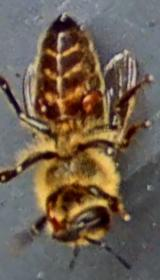varroa_mite: (75, 82, 105, 116), (32, 90, 53, 120)
